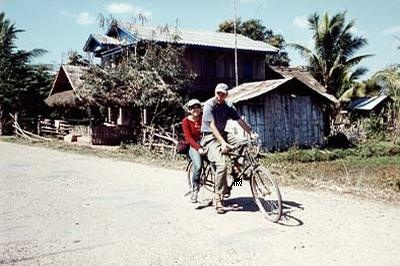car: (184, 134, 284, 223)
person: (202, 85, 262, 214), (185, 99, 207, 205)
